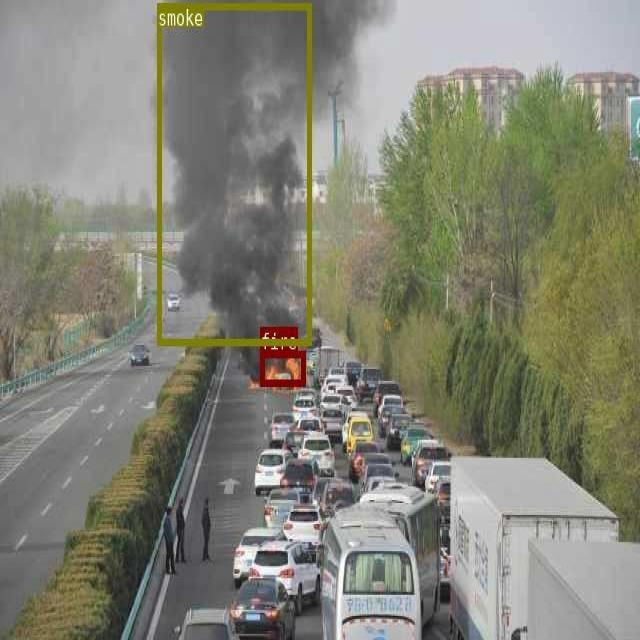fire: (260, 350, 304, 385)
smoke: (157, 3, 311, 343)
